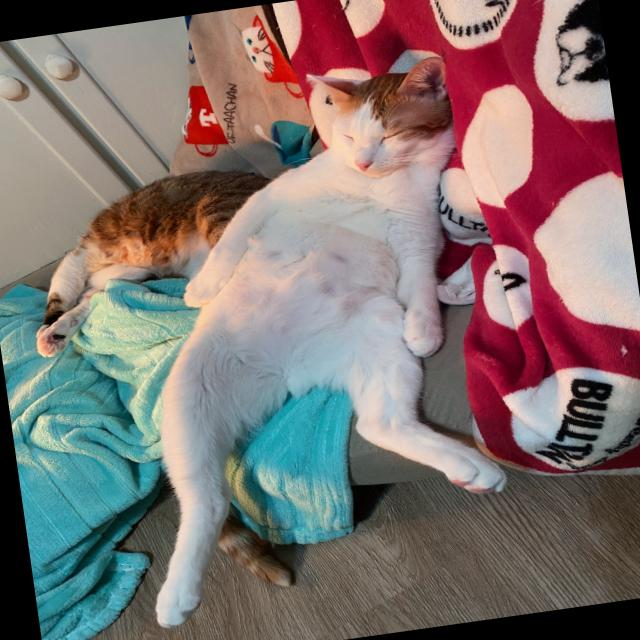cat1: (83, 47, 529, 632)
cat2: (14, 156, 296, 358)
